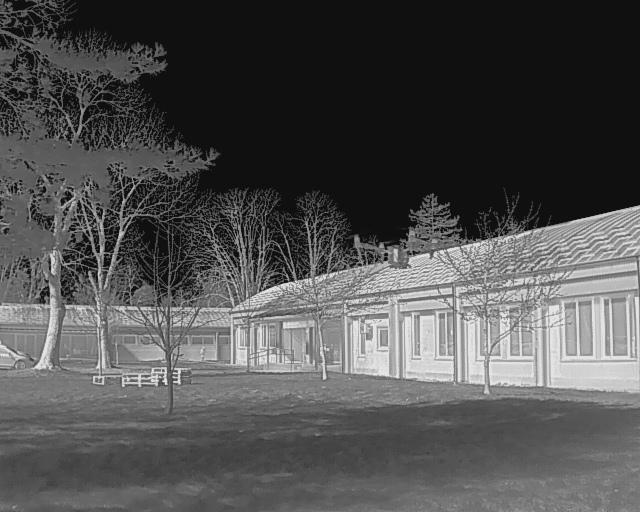drone: (335, 228, 462, 278)
